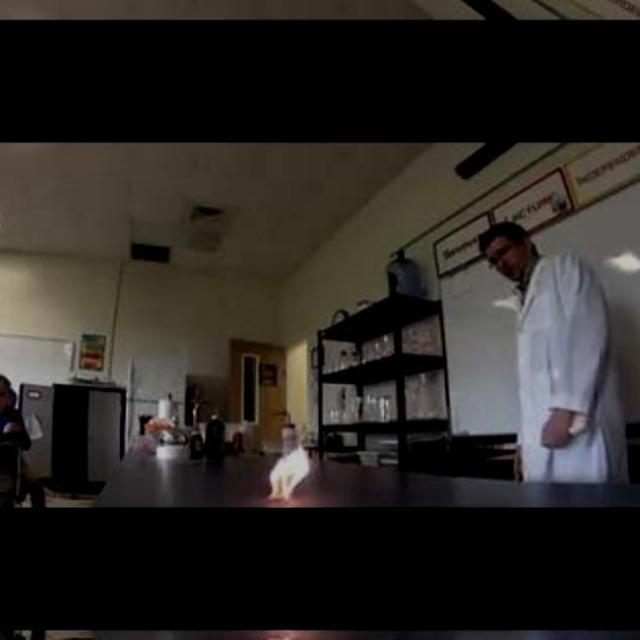smoke: (259, 433, 314, 502), (259, 636, 314, 640)
